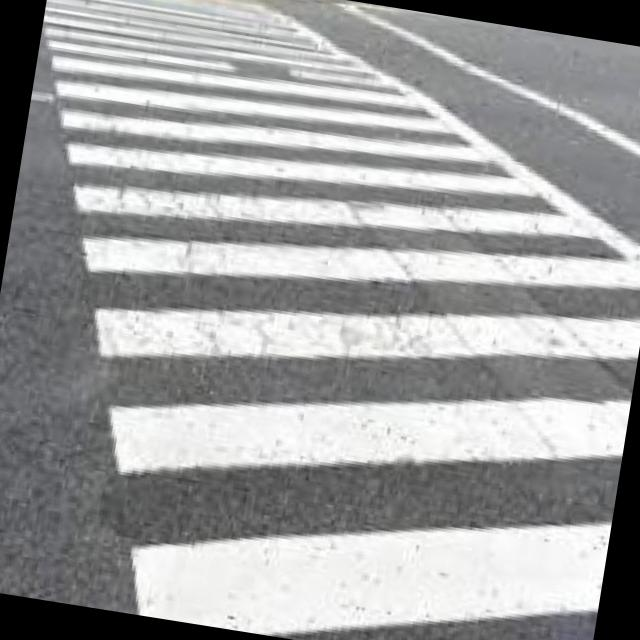zebra: (45, 0, 640, 638)
